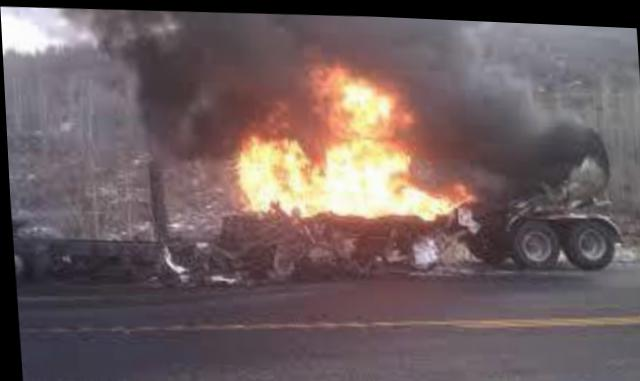fire: (230, 60, 467, 233)
